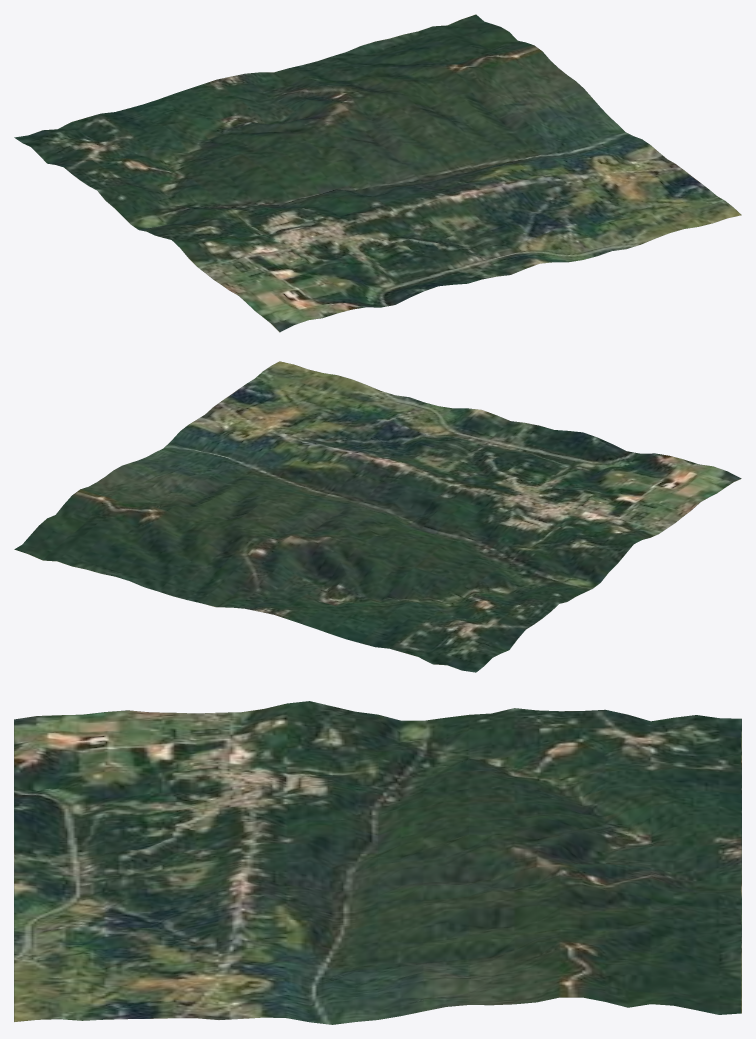
The picture shows the model from 3 angles, top to bottom: view 1: azimuth 30°, elevation 25°; view 2: azimuth 150°, elevation 25°; view 3: azimuth 270°, elevation 25°; orthographic projection. The views are drawn at different scales.
Bounding box in the file's own units: 3904 × 207 × 3886.
1 material, 1 textured.
